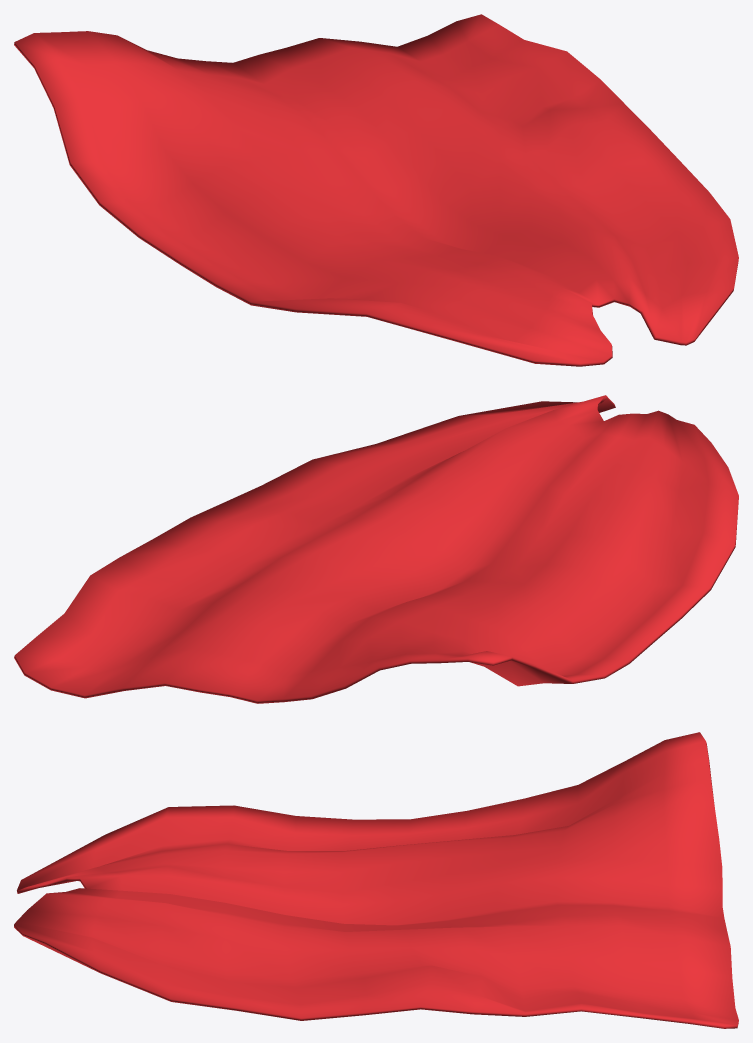
The model's file is cape.glb.
3 renders of one model, top to bottom at view 1: azimuth 30°, elevation 25°; view 2: azimuth 150°, elevation 25°; view 3: azimuth 270°, elevation 25°, orthographic. The views are drawn at different scales.
Visible parts, largest first — view 1: Cape; view 2: Cape; view 3: Cape.
Part boxes in pixels (bbox=[...]): Cape: bbox=[14, 14, 738, 366]; Cape: bbox=[14, 395, 738, 703]; Cape: bbox=[14, 732, 738, 1028].
Bounding box in the file's own units: 1.55 × 0.3585 × 2.2.
